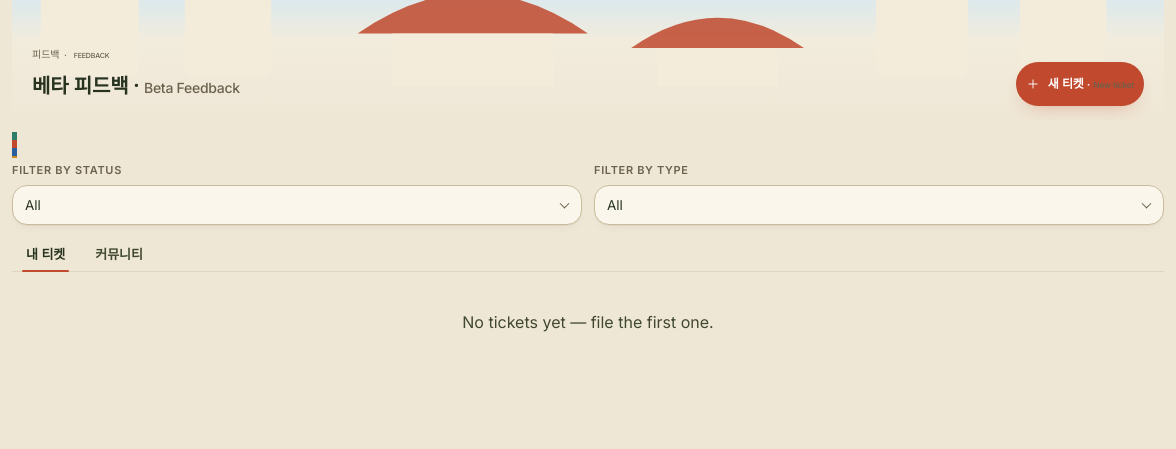
Scenario: Tickets — anonymity contract (F-023) › the Community feed never renders an author — only isMine-derived "Yours" tags
Expected: the text "No tickets yet — file the first one." is shown, [462,312,714,332]
Click the tab named "Community" at (119, 254), box [81,237,157,271]
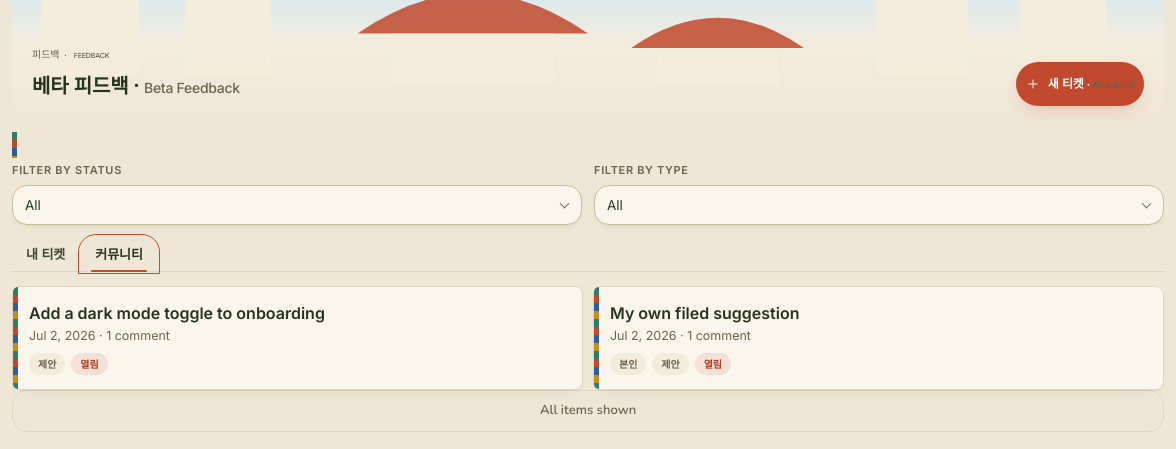
Expected: the text "Add a dark mode toggle to onboarding" is shown, [29,303,325,323]
Expected: the text "My own filed suggestion" is shown, [610,303,800,323]
